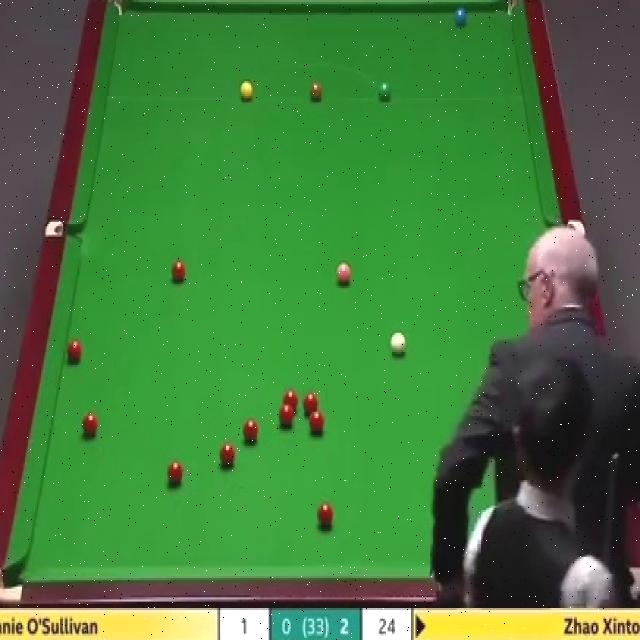blue-ball: (453, 4, 470, 30)
brown-ball: (309, 82, 323, 104)
green-ball: (378, 81, 392, 104)
pink-ball: (336, 260, 352, 288)
red-ball: (79, 408, 99, 441), (219, 442, 237, 472), (166, 459, 184, 488), (317, 502, 334, 532), (243, 420, 260, 446), (278, 404, 295, 429), (170, 257, 186, 283), (66, 338, 82, 364), (281, 389, 299, 412), (309, 409, 325, 434), (302, 392, 319, 413)
white-ball: (387, 329, 409, 358)
yellow-ball: (240, 80, 254, 103)
